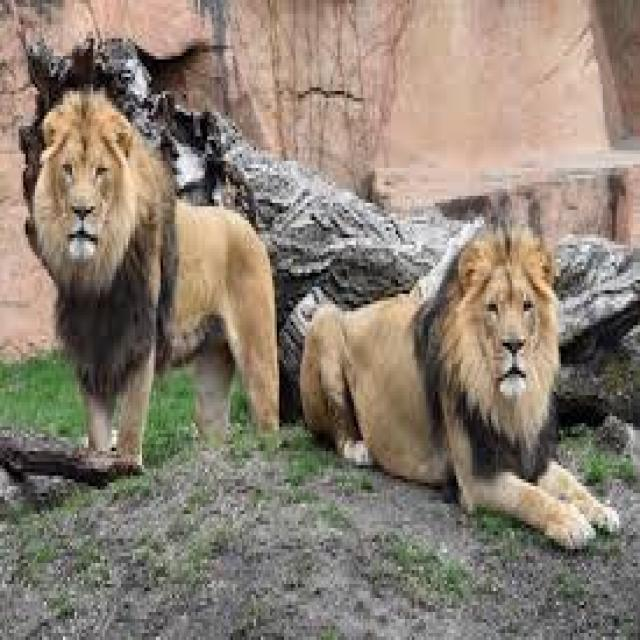Lion: (19, 38, 275, 465), (289, 217, 614, 542)
